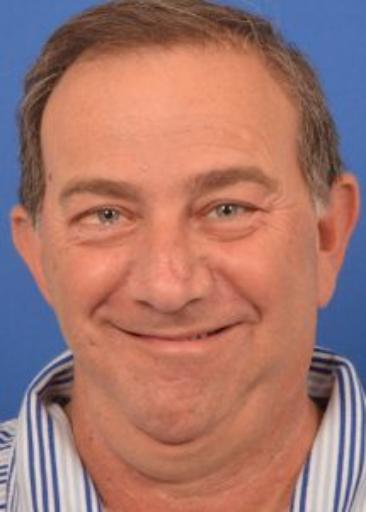left_eye: (197, 199, 260, 222)
left_lip_corner: (234, 316, 255, 332)
right_eye: (75, 204, 139, 230)
right_lip_corner: (102, 317, 117, 328)
